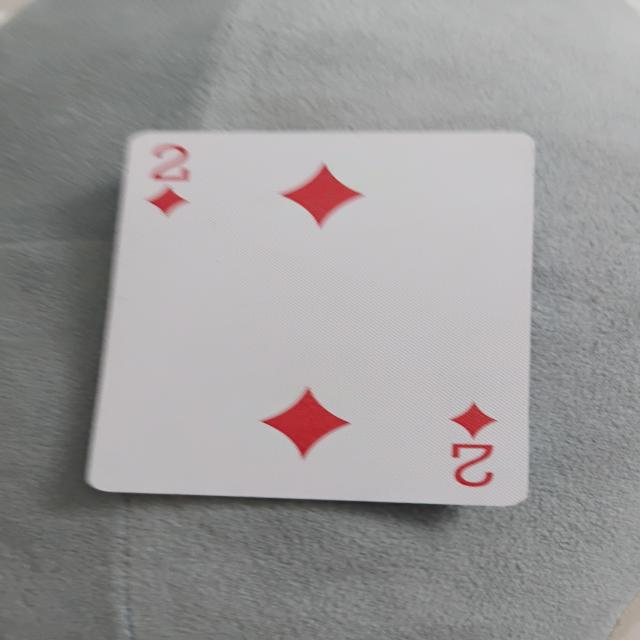2D: (98, 132, 540, 516)
